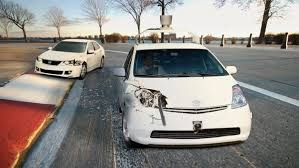Broken-glass: (134, 89, 162, 109), (64, 57, 78, 67)
Dent: (120, 91, 134, 123), (125, 76, 144, 89)
